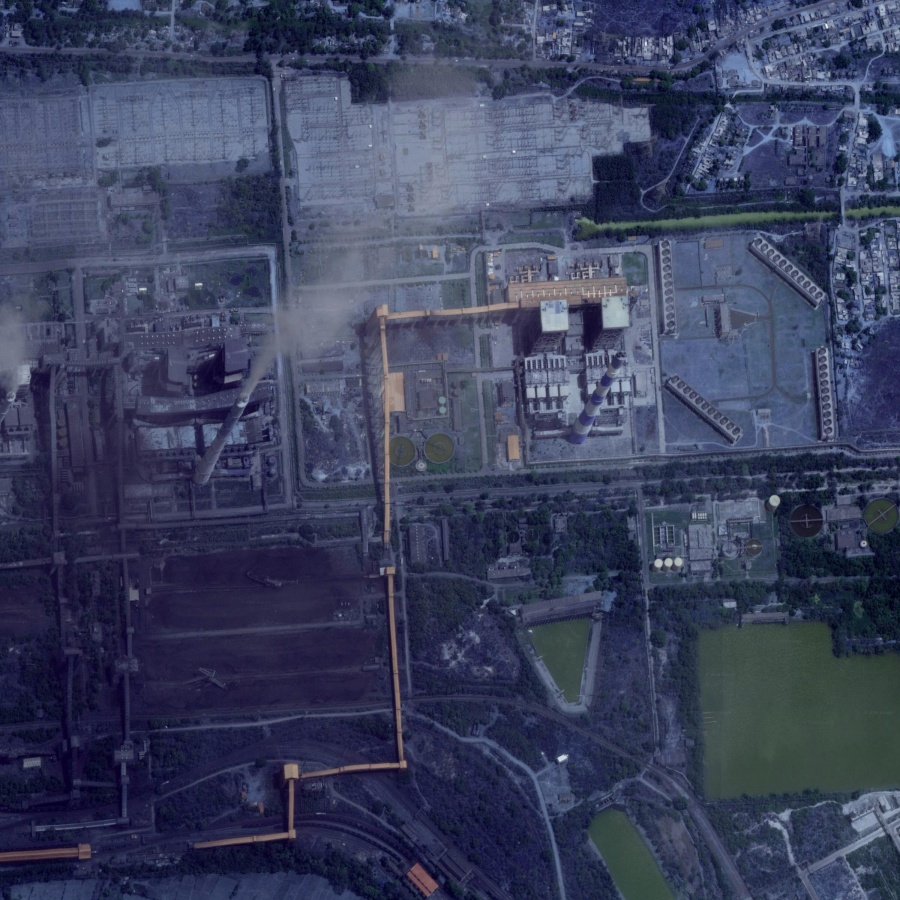PowerPlant: (517, 278, 641, 458)
